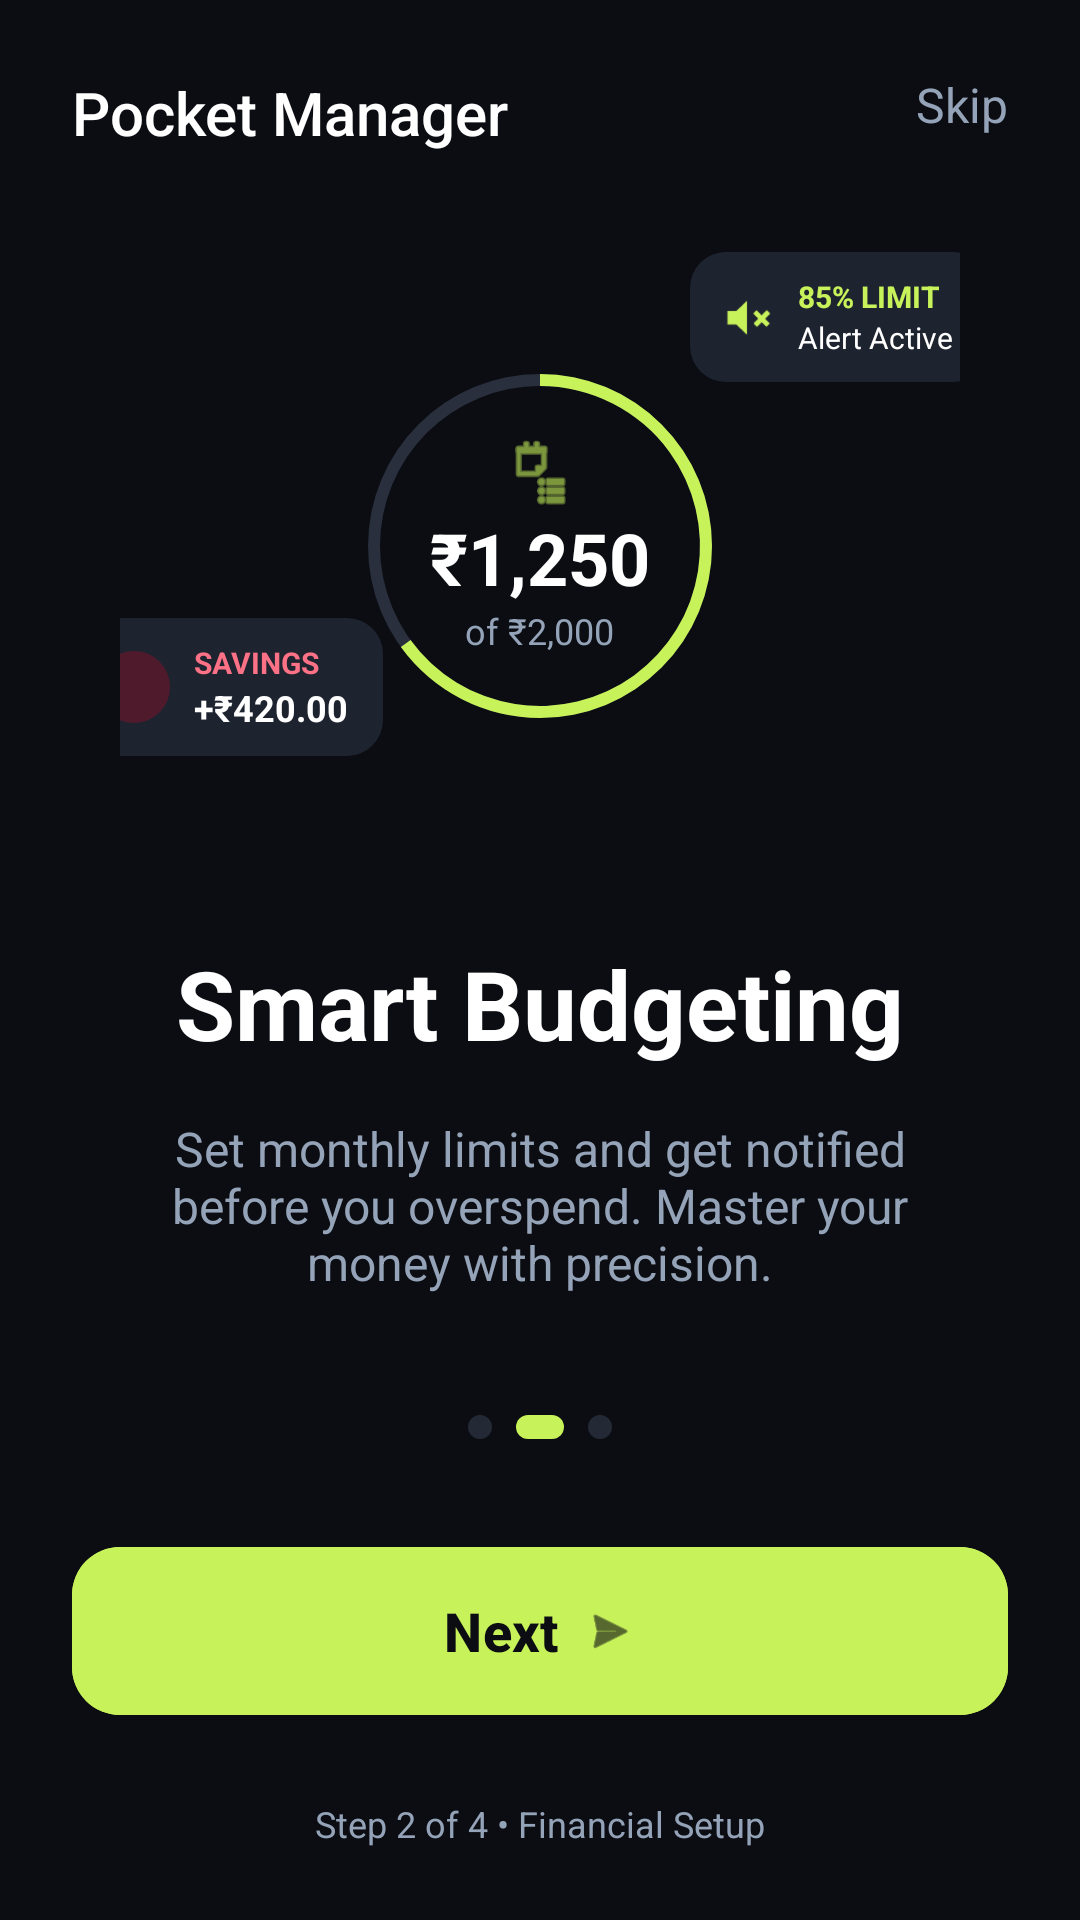

Icons on this 1080px x 1920px Android screen, each with the point to tap as [x,y]:
agenda: [540,473]
